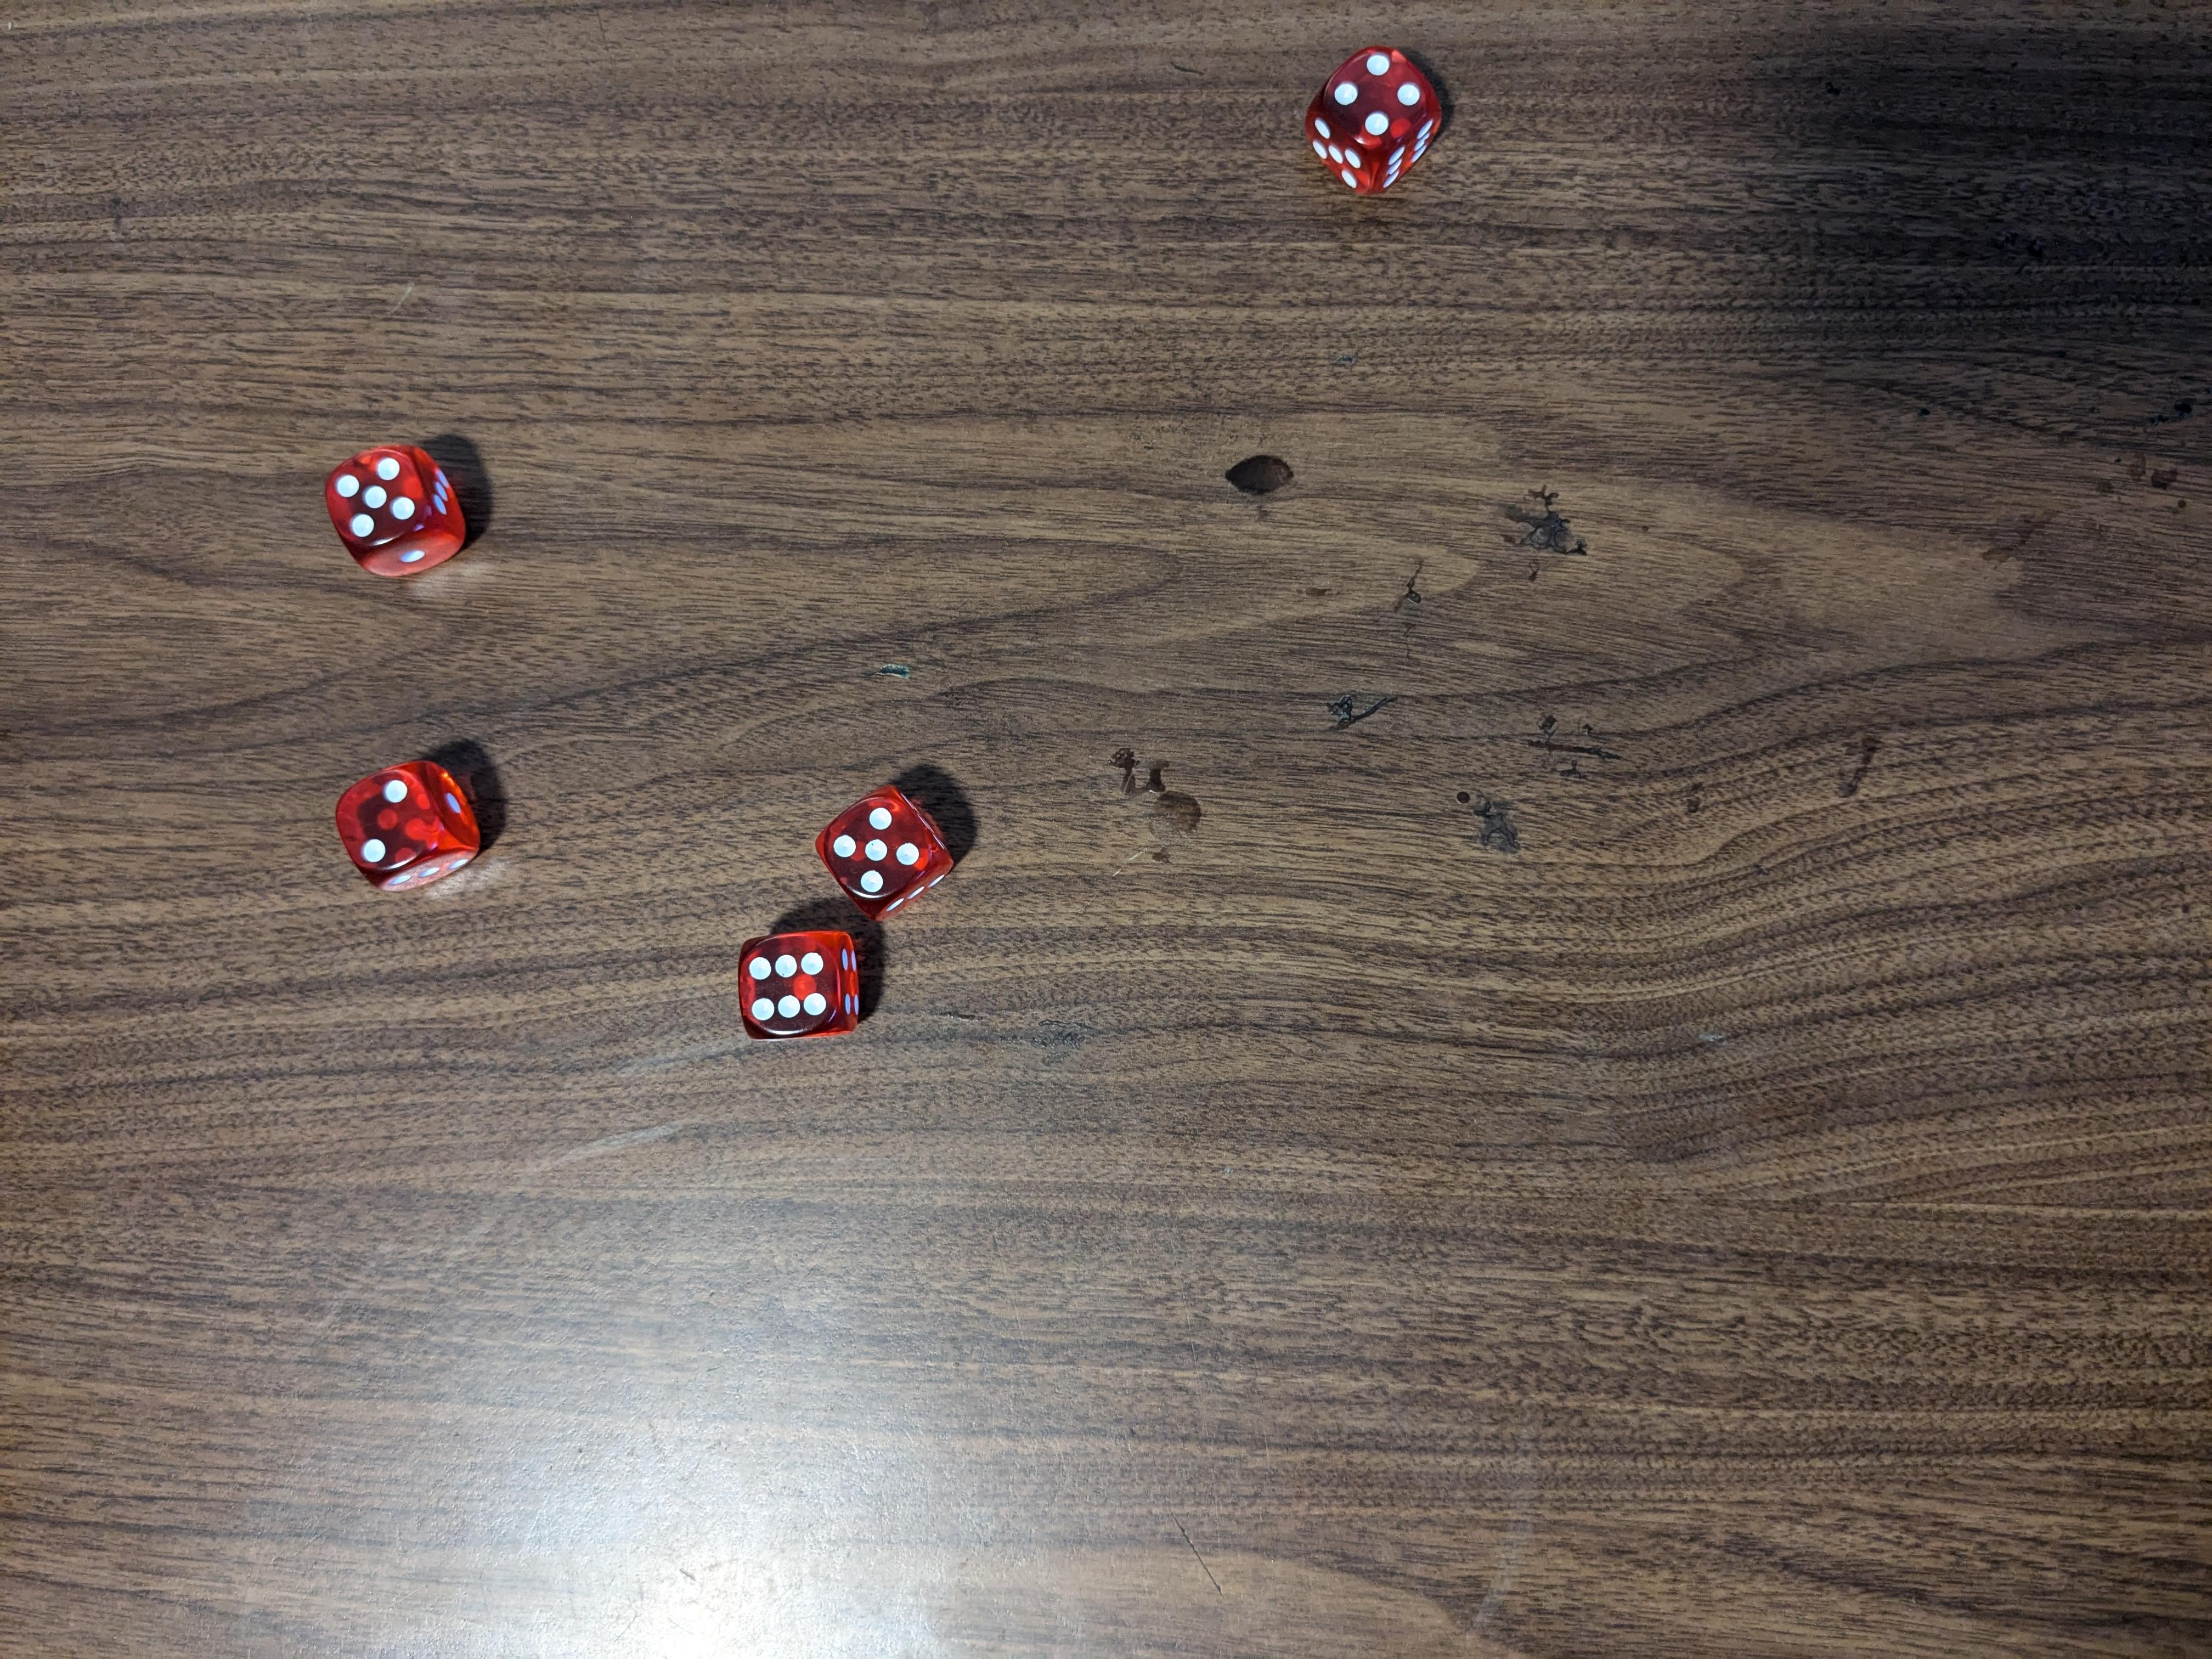five: (322, 446, 474, 587), (819, 788, 968, 918)
four: (1305, 44, 1449, 202)
six: (733, 925, 869, 1044)
two: (333, 758, 489, 904)
